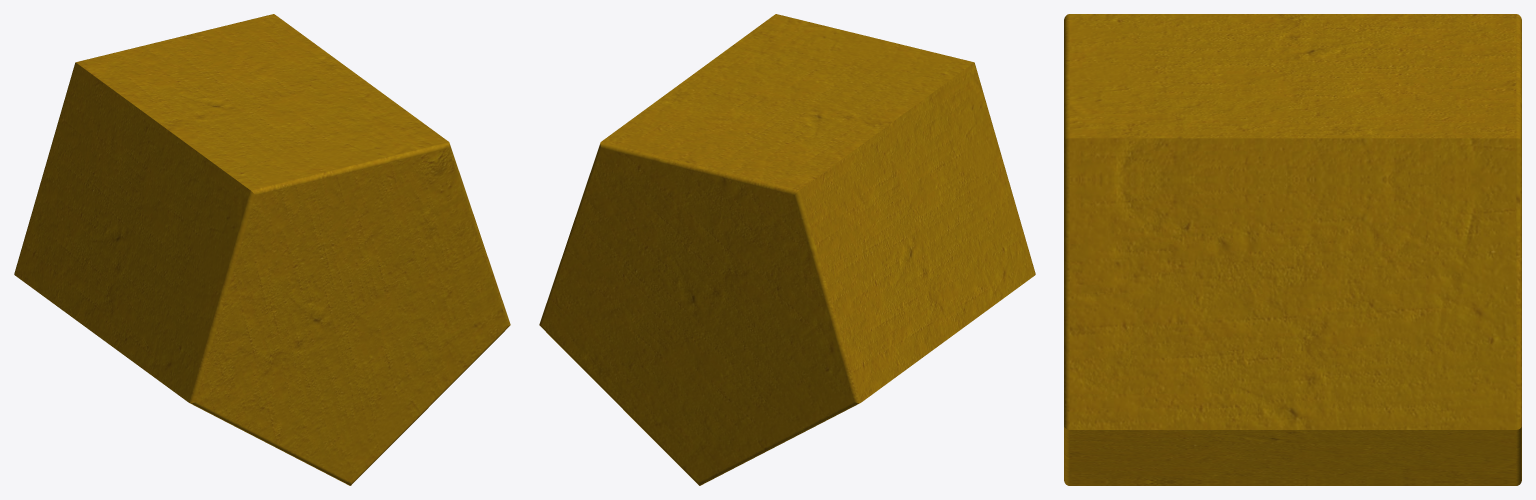
File: pentagon.glb
The picture shows the model from 3 angles, left to right: view 1: azimuth 30°, elevation 25°; view 2: azimuth 150°, elevation 25°; view 3: azimuth 270°, elevation 25°; orthographic projection. The views are drawn at different scales.
Visible parts, largest first — view 1: pentagon_2; view 2: pentagon_2; view 3: pentagon_2.
Boxes of the visible parts, box(x1,y1,x2,y2) form: pentagon_2: box(14, 14, 510, 485); pentagon_2: box(539, 14, 1035, 485); pentagon_2: box(1064, 14, 1521, 485).
Bounding box in the file's own units: 0.0415 × 0.0395 × 0.04.
1 material, 1 textured.
